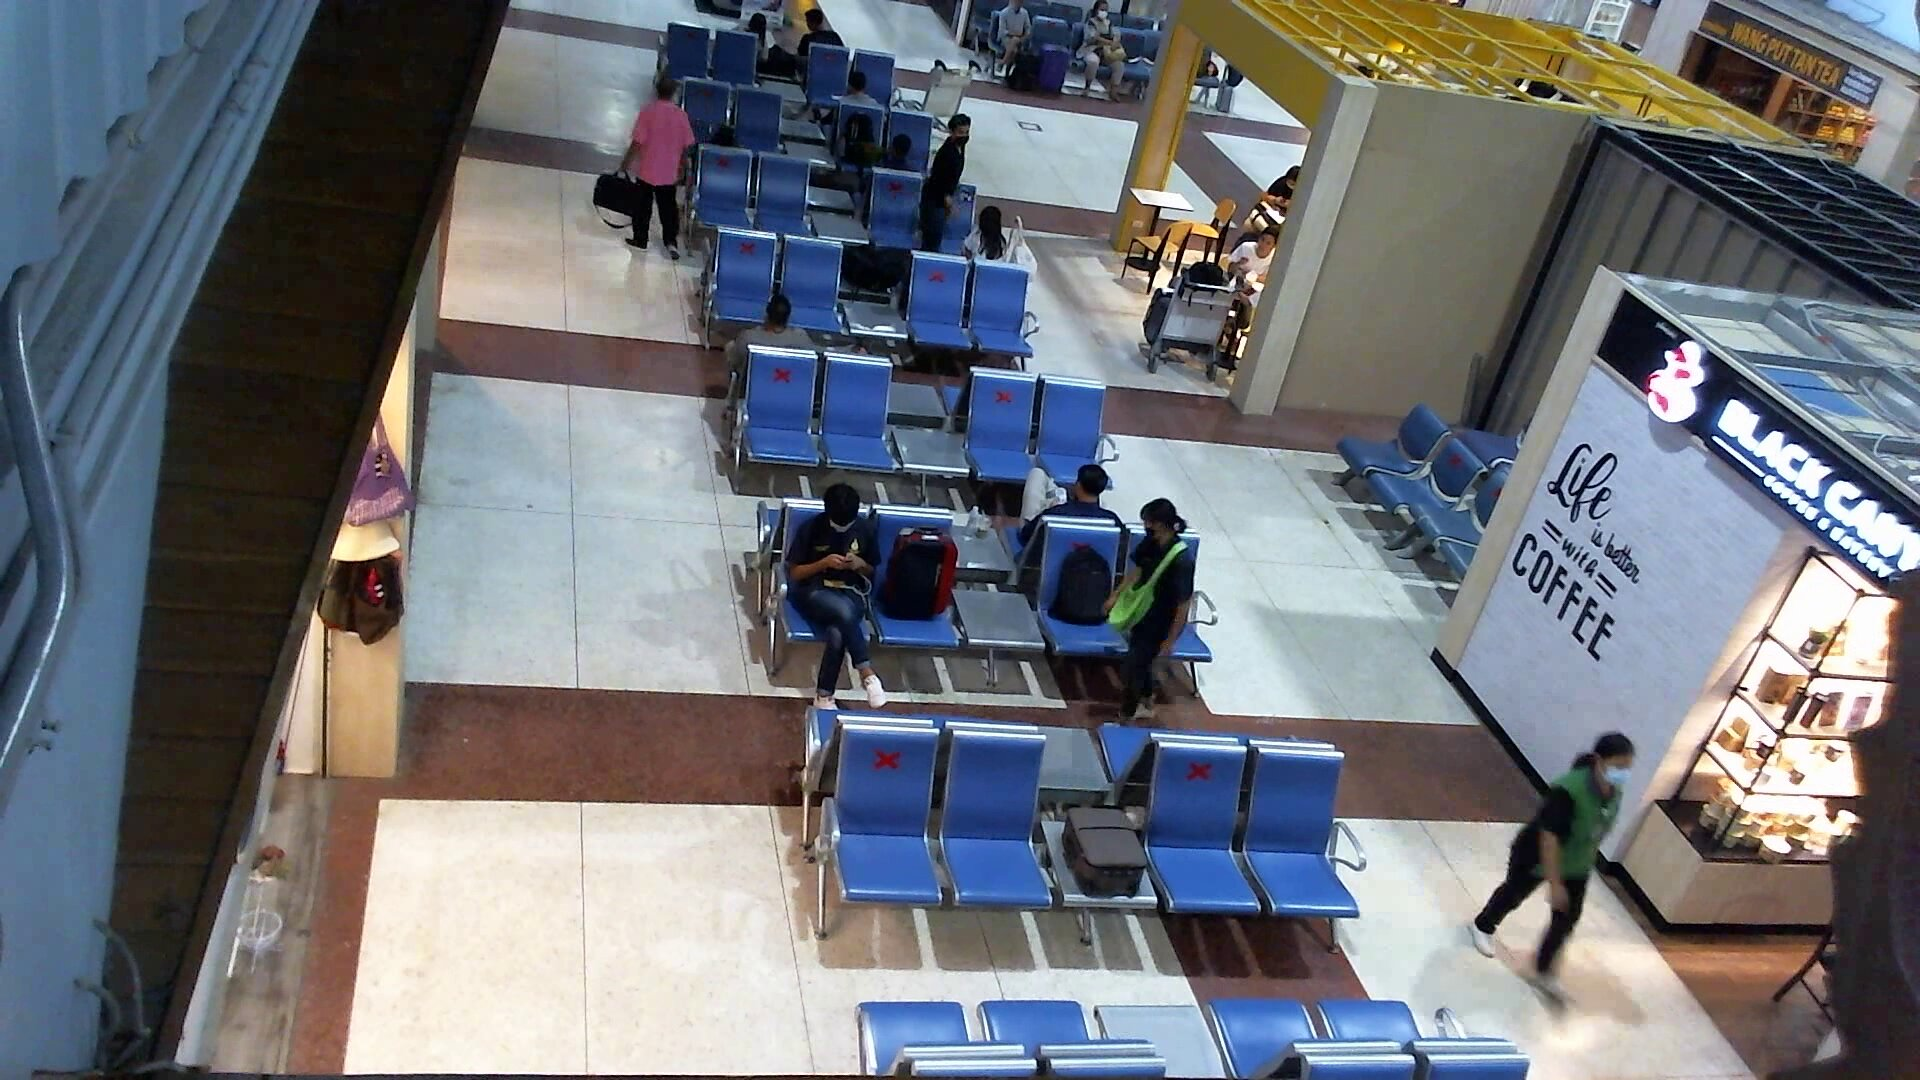backpack: (1048, 540, 1116, 627)
bag: (1099, 549, 1181, 631), (577, 150, 654, 233)
luggage: (1051, 792, 1155, 908), (884, 518, 959, 625)
people: (1461, 696, 1646, 1015), (770, 470, 901, 731), (1103, 489, 1200, 736), (604, 73, 706, 256), (906, 104, 981, 262)
